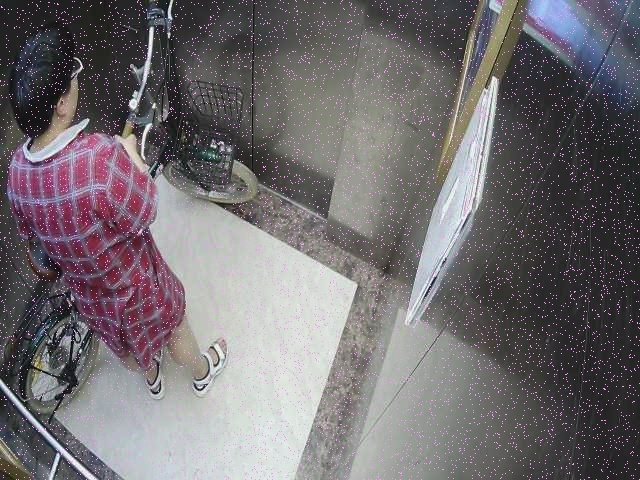bicycle: (16, 5, 261, 422)
person: (10, 38, 238, 406)
